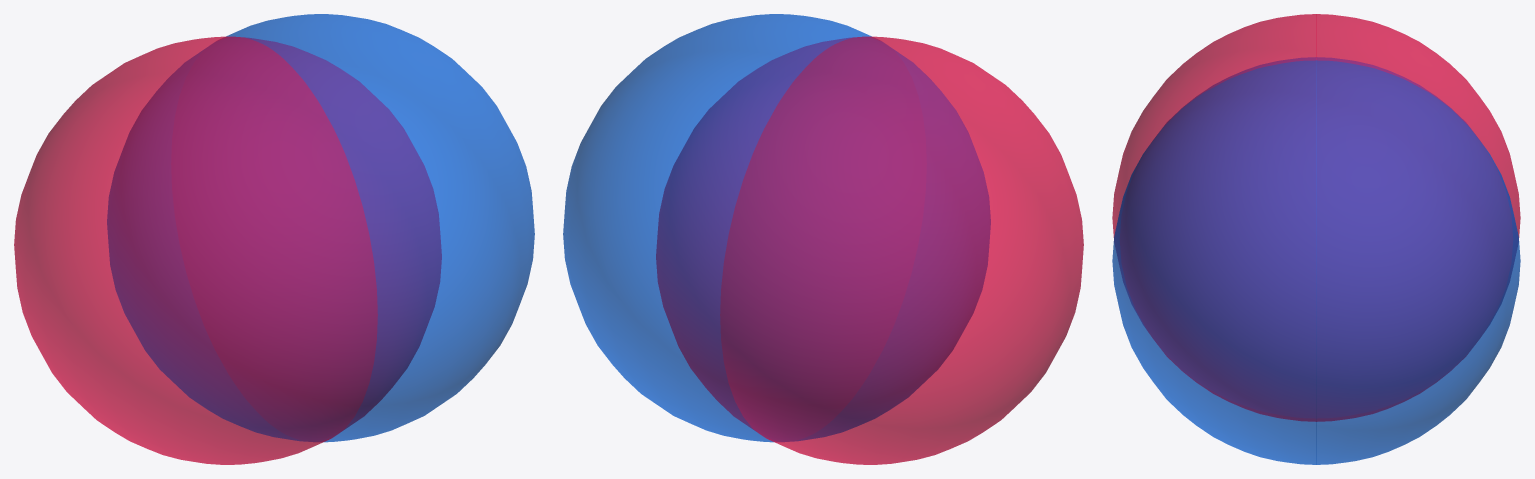
The model's file is spheres-transparent.glb.
The picture shows the model from 3 angles, left to right: view 1: azimuth 30°, elevation 25°; view 2: azimuth 150°, elevation 25°; view 3: azimuth 270°, elevation 25°; orthographic projection. The views are drawn at different scales.
Parts seen in each view (by area): view 1: Sphere (×2); view 2: Sphere (×2); view 3: Sphere (×2).
Boxes of the visible parts, <box> form: Sphere (×2): <box>14,14,534,464</box>; Sphere (×2): <box>563,14,1083,464</box>; Sphere (×2): <box>1112,14,1520,464</box>.
Bounding box in the file's own units: 2.5 × 2 × 2.
